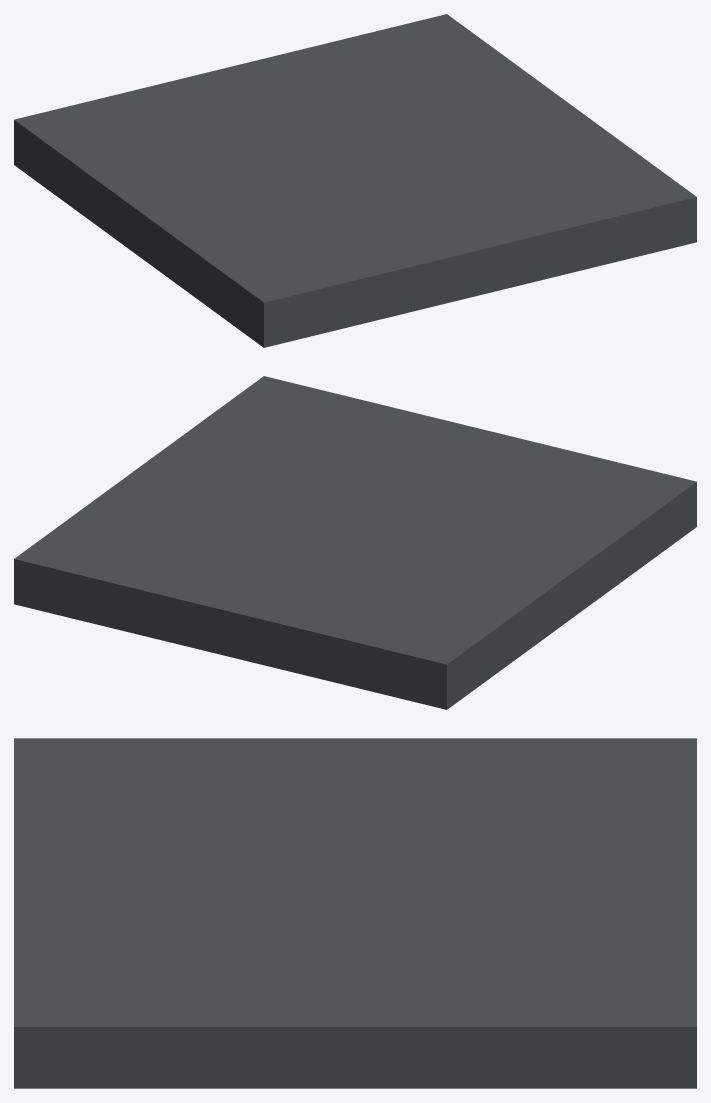
Rendered from EspacioContenidoTechoInteriorBajoNI.gltf.
The picture shows the model from 3 angles, top to bottom: view 1: azimuth 30°, elevation 25°; view 2: azimuth 150°, elevation 25°; view 3: azimuth 270°, elevation 25°; orthographic projection. The views are drawn at different scales.
Visible parts, largest first — view 1: Techo.21; view 2: Techo.21; view 3: Techo.21.
Boxes of the visible parts, x1,y1,x2,y2 form: Techo.21: [14, 14, 696, 347]; Techo.21: [14, 376, 696, 709]; Techo.21: [14, 738, 696, 1088].
Size of the model in its own units: 2 by 0.1999 by 2.
1 material, 1 textured.
